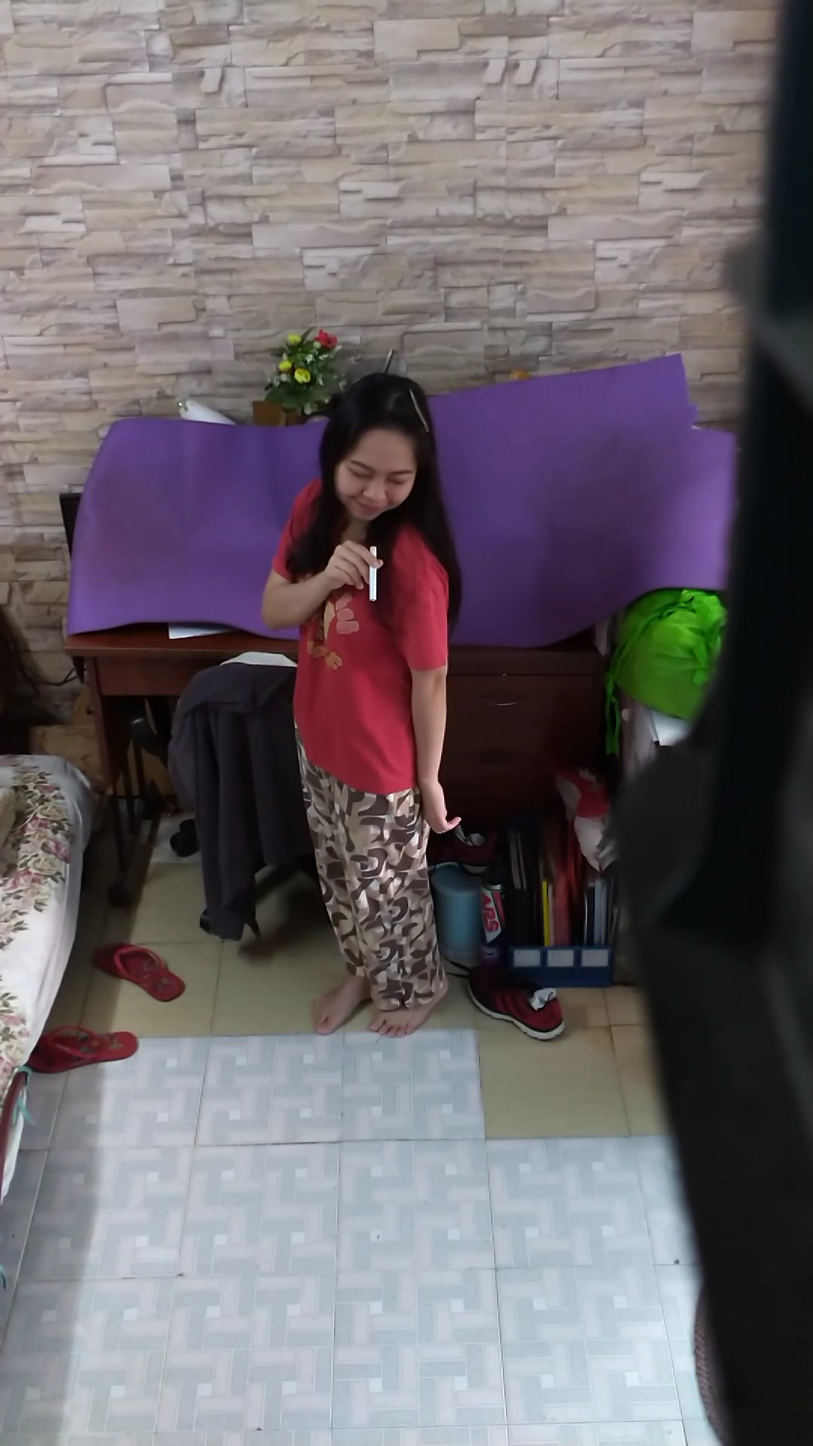cigarette: (364, 565, 381, 605)
person: (260, 371, 475, 1050)
